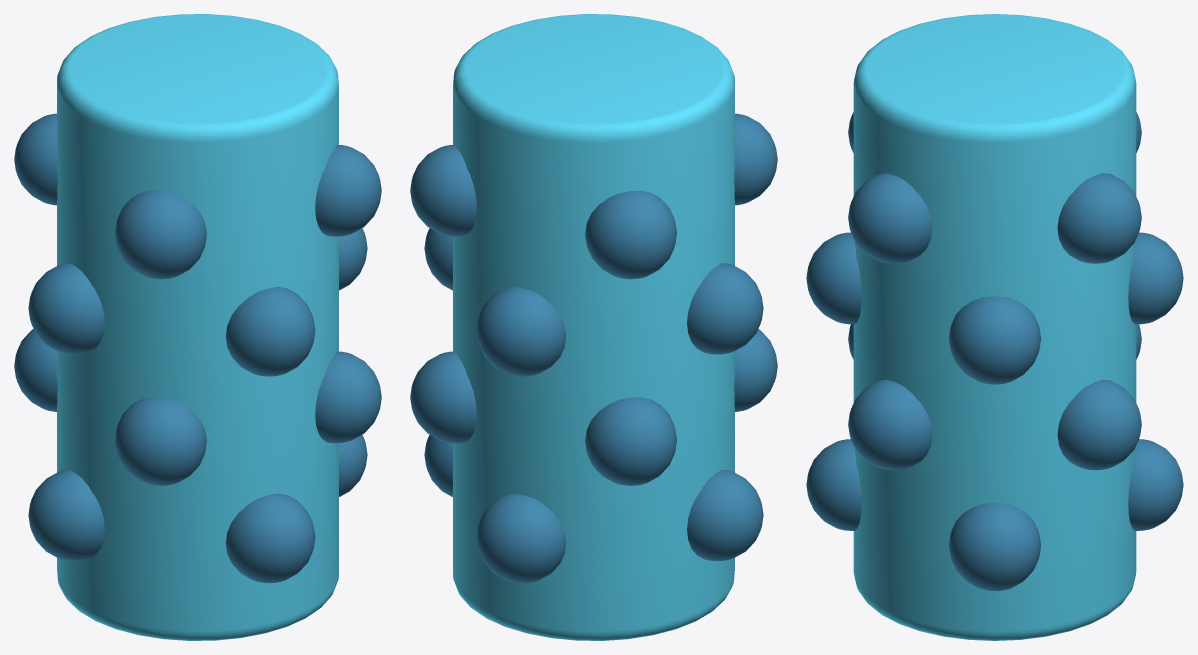
3 views of the same model, side by side, from view 1: azimuth 30°, elevation 25°; view 2: azimuth 150°, elevation 25°; view 3: azimuth 270°, elevation 25° (orthographic).
Visible parts, largest first — view 1: Cylinder.001; view 2: Cylinder.001; view 3: Cylinder.001.
Part boxes in pixels (<box>): Cylinder.001: <box>14,14,381,640</box>; Cylinder.001: <box>410,14,777,640</box>; Cylinder.001: <box>806,14,1183,640</box>.
Bounding box in the file's own units: 132 × 200 × 132.
